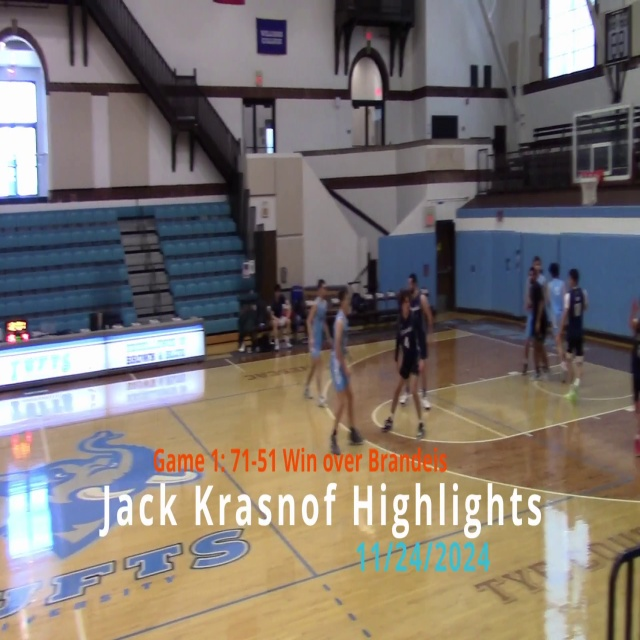Basketball: (630, 317, 639, 329)
